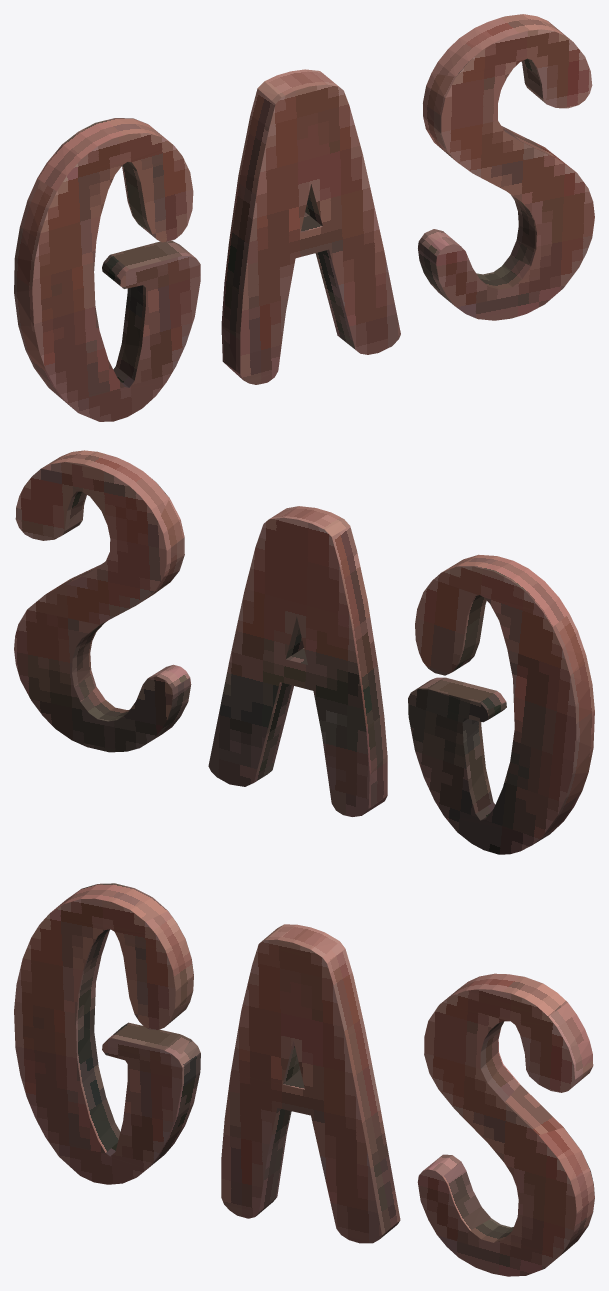
File: gas.glb
The picture shows the model from 3 angles, top to bottom: view 1: azimuth 30°, elevation 25°; view 2: azimuth 150°, elevation 25°; view 3: azimuth 330°, elevation 25°; orthographic projection.
Visible parts, largest first — view 1: gas; view 2: gas; view 3: gas.
Part boxes in pixels (box(x1,y1,x2,y2)): gas: box(14, 14, 594, 421); gas: box(14, 450, 594, 854); gas: box(14, 883, 594, 1276).
Bounding box in the file's own units: 0.1617 × 0.08 × 0.00994.
Materials: 1 (1 with a texture image).
